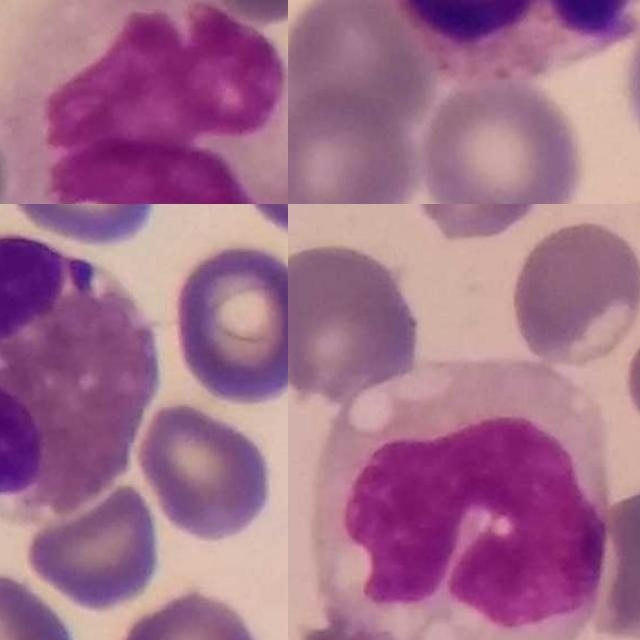Eosinophil: (0, 236, 155, 515)
Monocyte: (315, 354, 614, 640), (0, 0, 288, 204)
Neutrophil: (386, 0, 640, 80)
